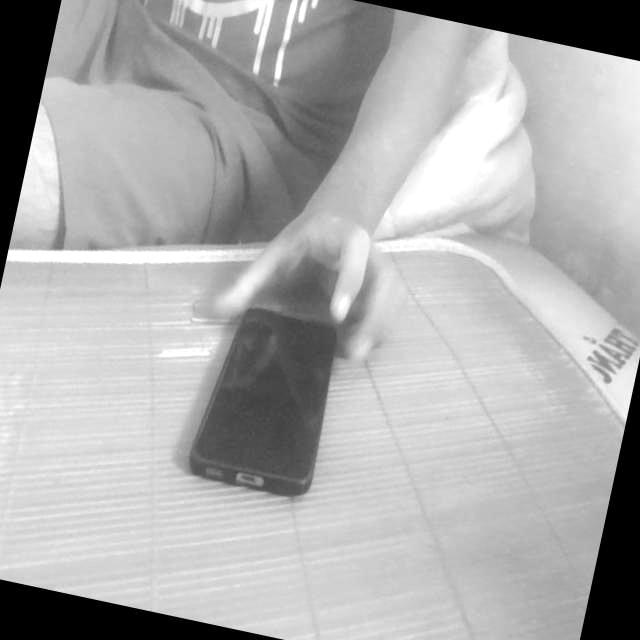phone: (164, 260, 368, 530)
